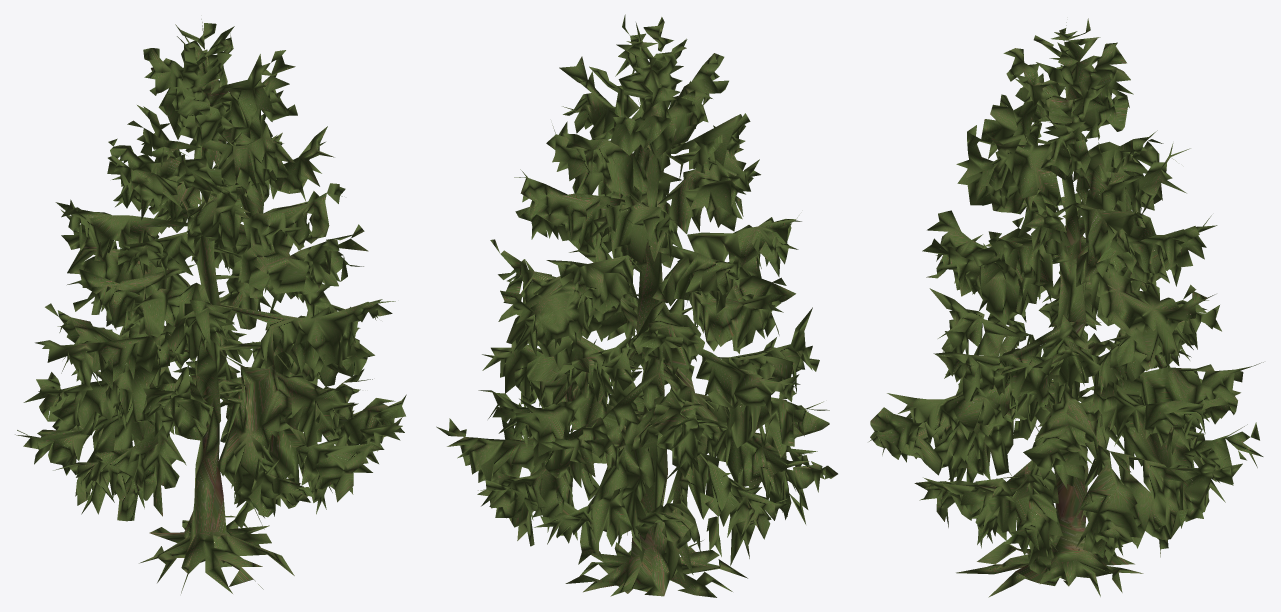
Rendered from abies-sapling-l1.glb.
3 views of the same model, side by side, from view 1: azimuth 30°, elevation 25°; view 2: azimuth 150°, elevation 25°; view 3: azimuth 270°, elevation 25° (orthographic). The views are drawn at different scales.
Parts seen in each view (by area): view 1: world; view 2: world; view 3: world.
Part boxes in pixels (left/top/right/bottom): world: left=15, top=19, right=406, bottom=593; world: left=436, top=14, right=837, bottom=597; world: left=869, top=18, right=1263, bottom=597.
Bounding box in the file's own units: 2.34 × 3.38 × 2.24.
Materials: 1 (1 with a texture image).
